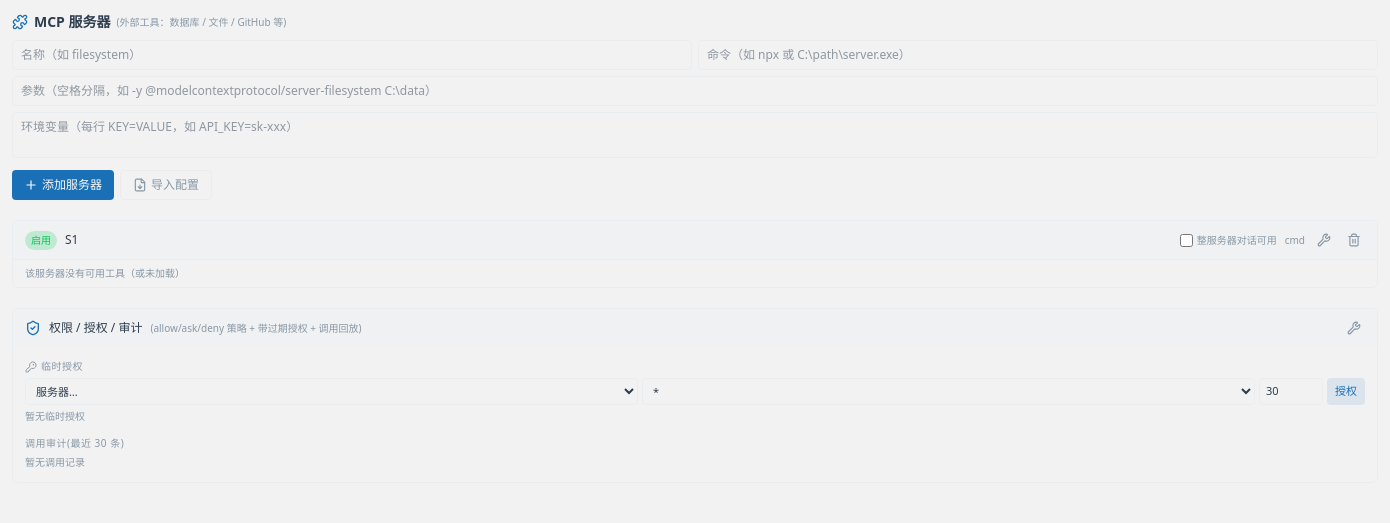
Test: McpManager — 对话可用白名单 › 加载白名单后，已授权工具回显为选中
Click the button titled "加载工具": (1324, 240) [1313, 229, 1335, 251]
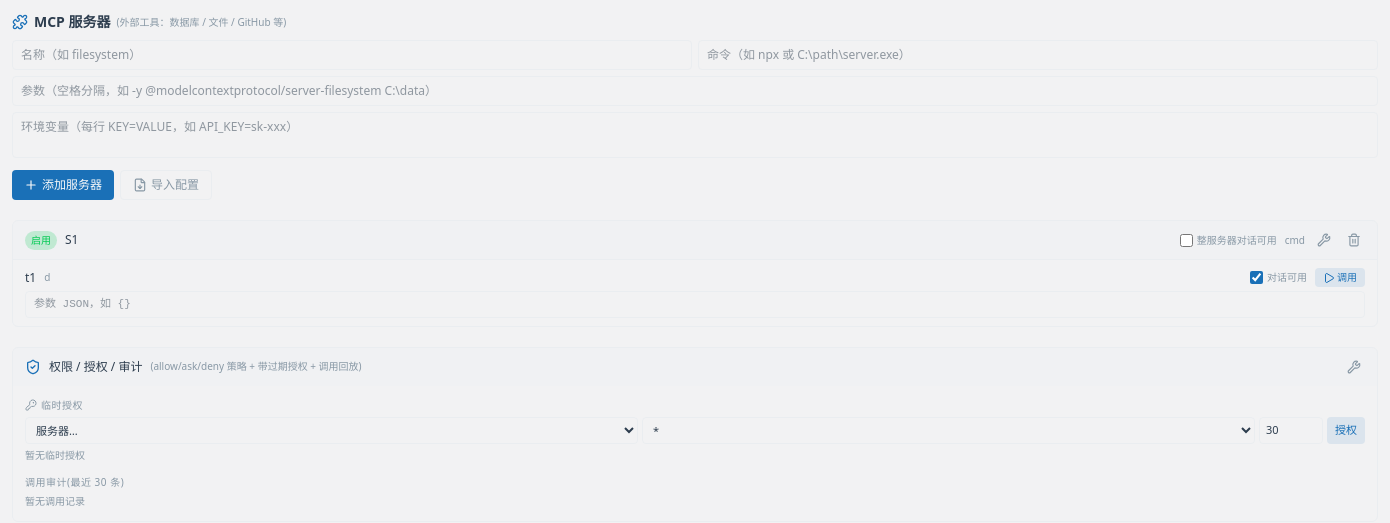
Expected: the text "t1" is shown, [25, 270, 36, 286]
Expected: the checkbox labelled "对话可用" is checked, [1250, 271, 1263, 284]
